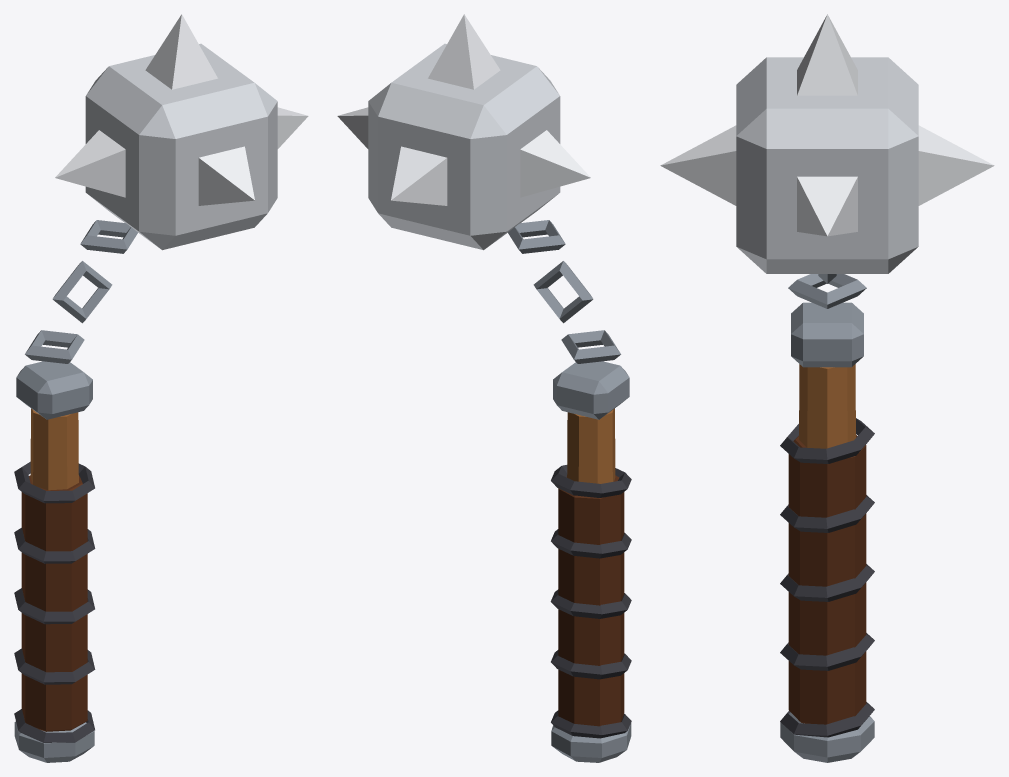
The model's file is IronFlail.fbx.
3 views of the same model, side by side, from view 1: azimuth 30°, elevation 25°; view 2: azimuth 150°, elevation 25°; view 3: azimuth 270°, elevation 25° (orthographic). The views are drawn at different scales.
Visible parts, largest first — view 1: IronFlail; view 2: IronFlail; view 3: IronFlail.
Part boxes in pixels (x1,y1,x2,y2): IronFlail: (14,14,308,762); IronFlail: (337,14,631,762); IronFlail: (660,14,994,762).
Size of the model in its own units: 1.26 by 2.92 by 1.1.
1 material, 1 textured.
